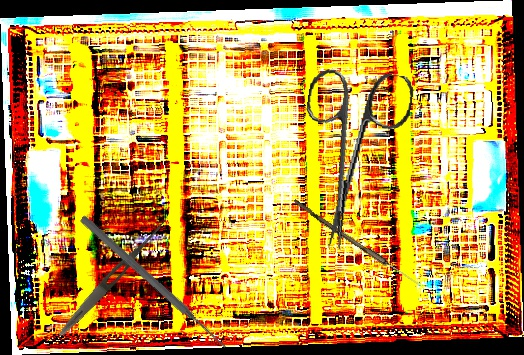Dressing Forceps: (55, 213, 172, 340)
Iris Scissors: (285, 62, 416, 257)
Pusher: (77, 213, 231, 353)
Surgical Spoon: (291, 199, 423, 288)
